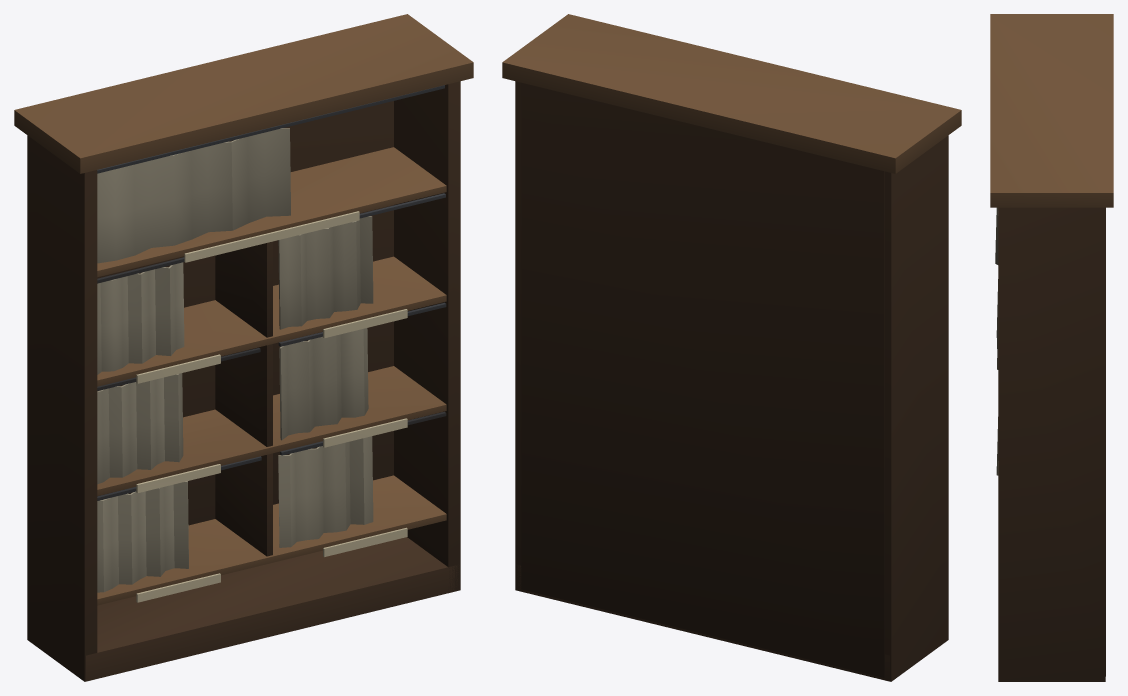
Rendered from ph_int_collection_shelf.glb.
3 views of the same model, side by side, from view 1: azimuth 30°, elevation 25°; view 2: azimuth 150°, elevation 25°; view 3: azimuth 270°, elevation 25° (orthographic). The views are drawn at different scales.
Parts seen in each view (by area): view 1: ph_int_collection_shelf; view 2: ph_int_collection_shelf; view 3: ph_int_collection_shelf.
Boxes of the visible parts, x1,y1,x2,y2 form: ph_int_collection_shelf: (14,14,473,681); ph_int_collection_shelf: (502,14,961,681); ph_int_collection_shelf: (990,14,1113,681).
Bounding box in the file's own units: 1.58 × 2.03 × 0.46.
